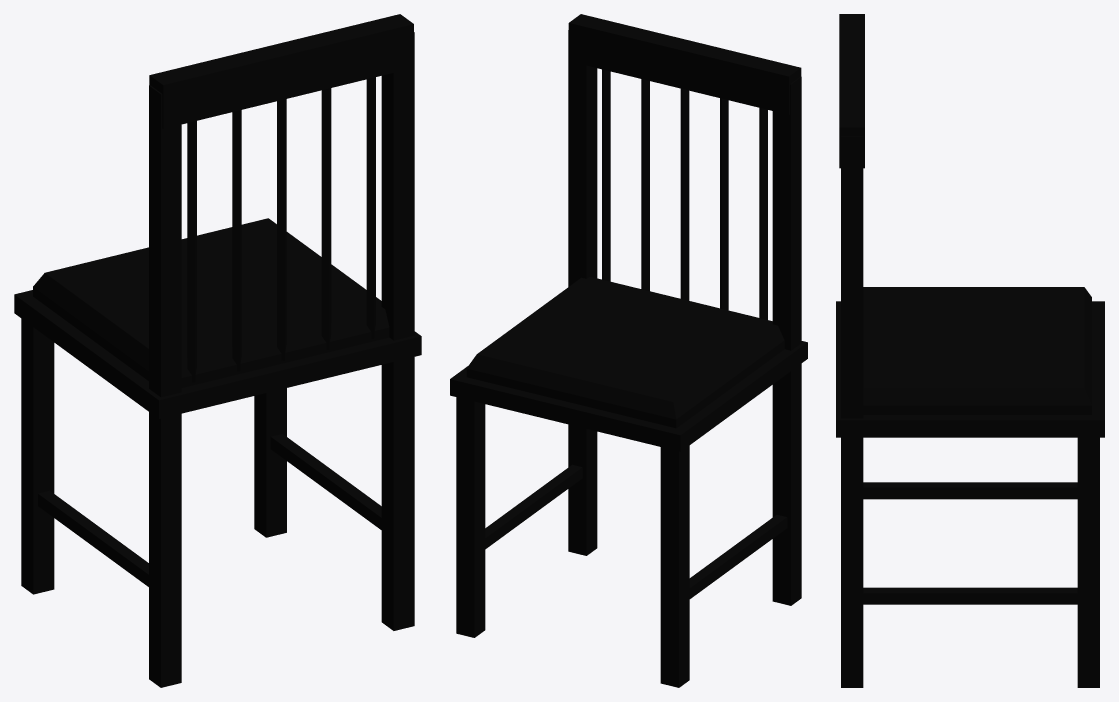
Rendered from SM_chair_spindle_walnut.fbx.
3 views of the same model, side by side, from view 1: azimuth 30°, elevation 25°; view 2: azimuth 150°, elevation 25°; view 3: azimuth 270°, elevation 25° (orthographic). The views are drawn at different scales.
Visible parts, largest first — view 1: chair_spindle_walnut; view 2: chair_spindle_walnut; view 3: chair_spindle_walnut.
Part boxes in pixels (x1,y1,x2,y2): chair_spindle_walnut: (14,14,421,687); chair_spindle_walnut: (450,14,807,687); chair_spindle_walnut: (836,14,1104,687).
Size of the model in its own units: 0.44 by 0.965 by 0.42.
